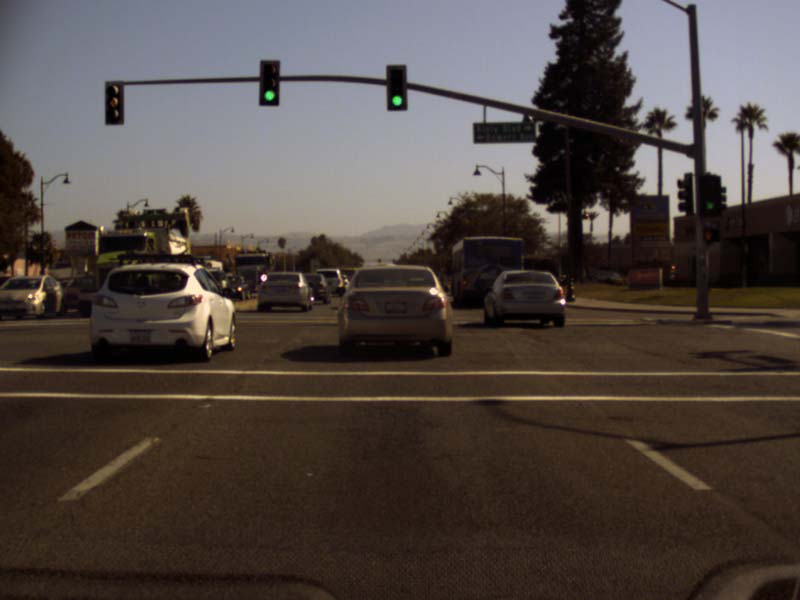Green: (260, 60, 278, 104), (388, 65, 405, 108), (704, 182, 714, 211)
Yellow: (106, 82, 122, 124)
